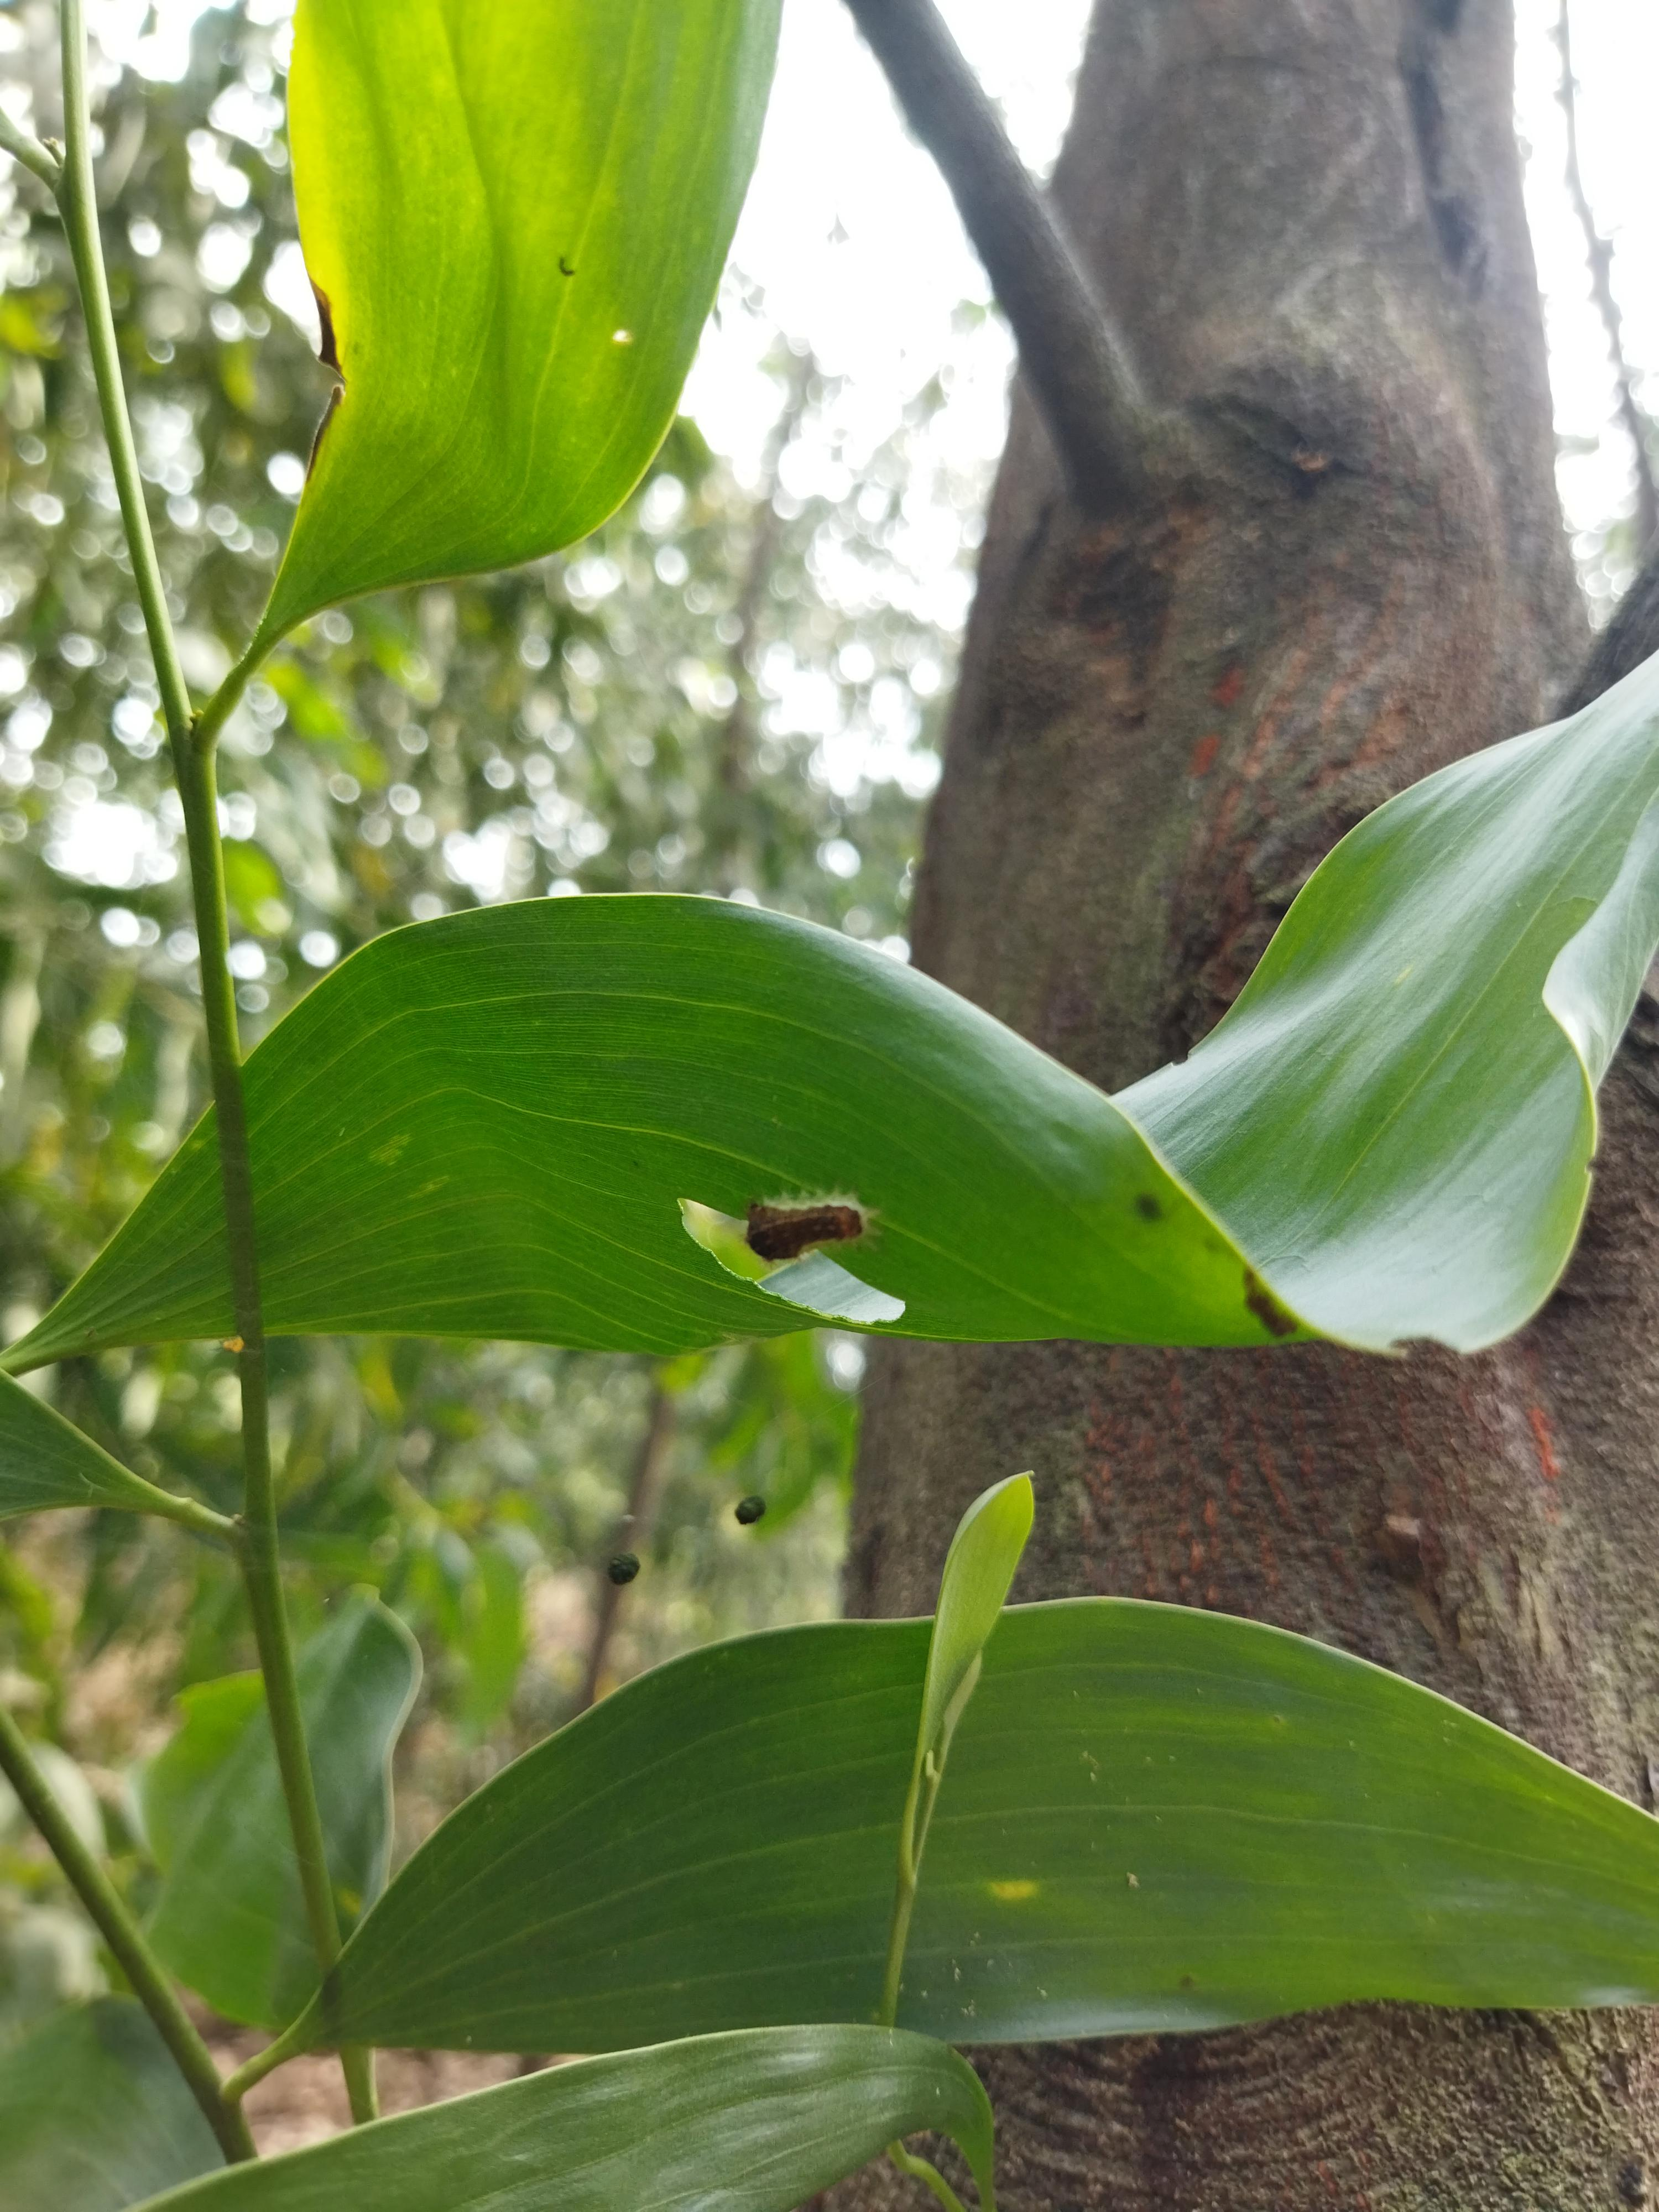Caterpillar: (709, 1169, 890, 1278)
